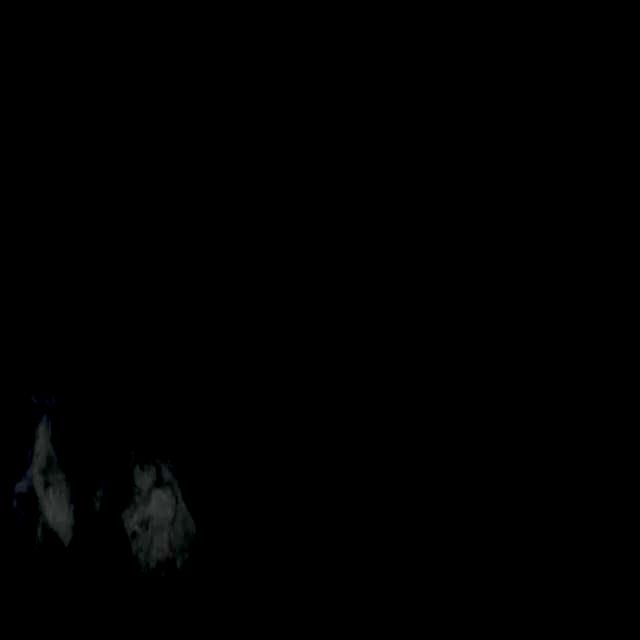smoke: (84, 418, 192, 612), (22, 470, 72, 603)
